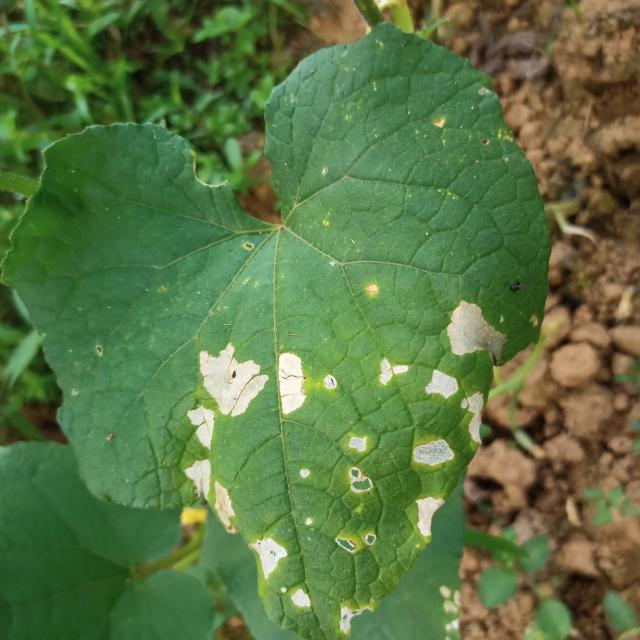disease_cucumber: (200, 344, 307, 420), (425, 368, 485, 446), (256, 537, 312, 608), (444, 298, 506, 360), (186, 458, 234, 523), (346, 432, 376, 496), (414, 436, 452, 470), (414, 494, 442, 538), (188, 406, 214, 450), (378, 360, 407, 389)
